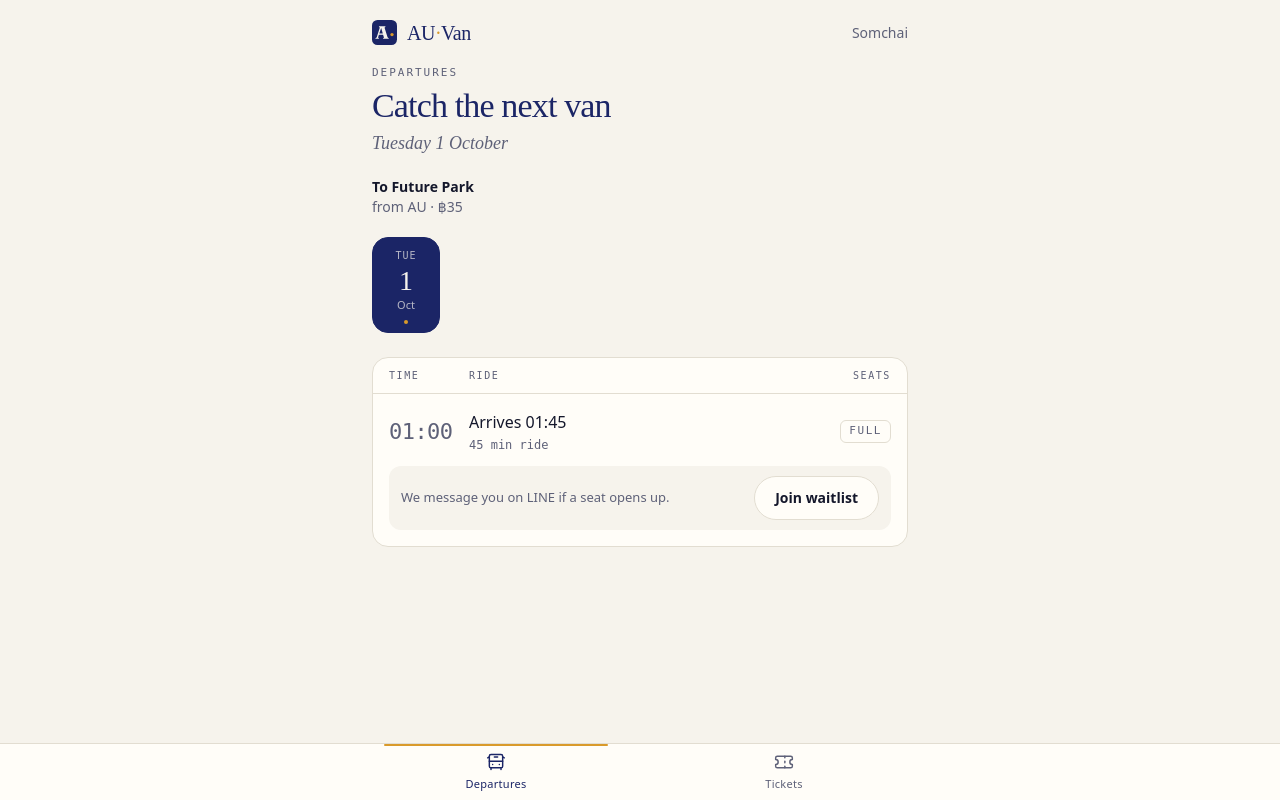
Test: Student app waitlist › joins the waitlist and reports the place the API gave back
Click the button "Join waitlist" at (817, 498), box top-left (754, 476), bottom-right (879, 520)
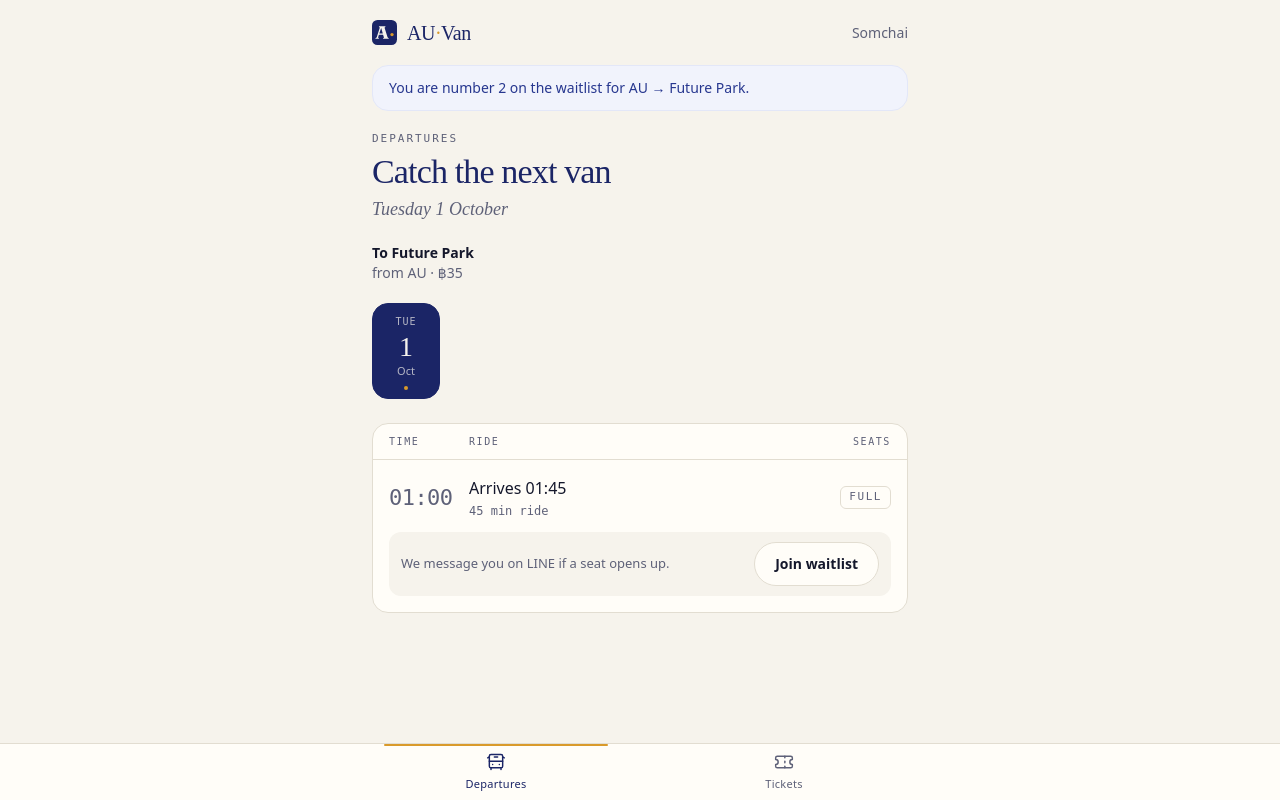
Expected: the text "You are number 2 on the waitlist for AU → Future Park." is shown, top-left (372, 65), bottom-right (908, 111)
